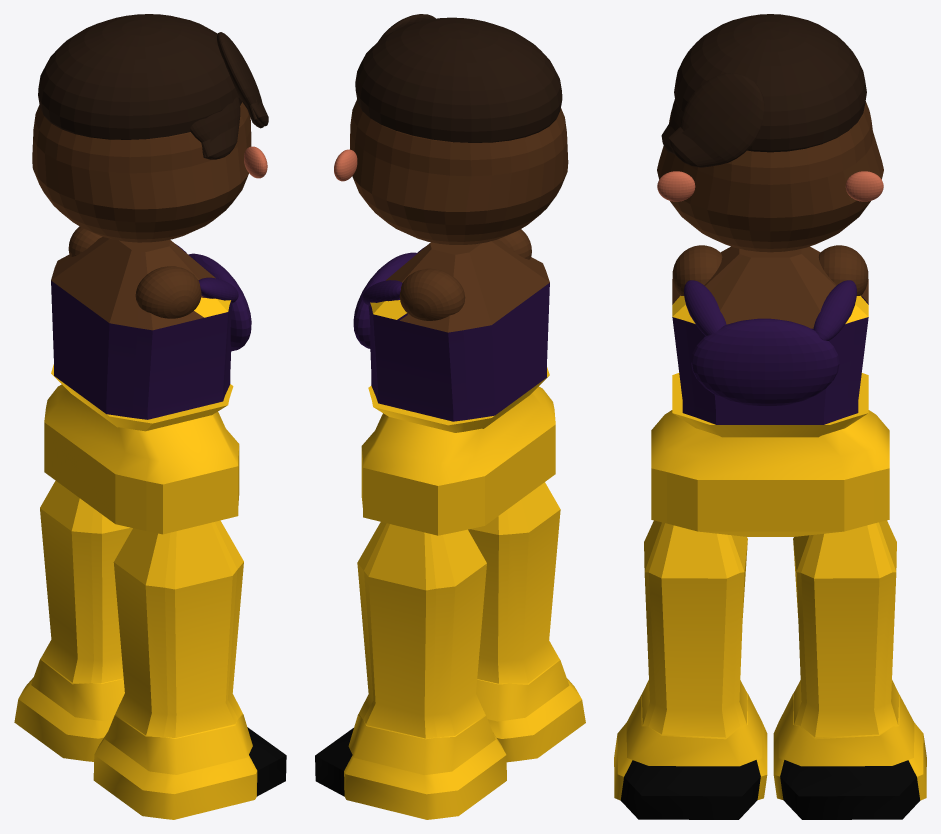
The model's file is test astfdtudcccgdbsgfgewasbhjkvhk.fbx.
3 renders of one model, left to right at view 1: azimuth 30°, elevation 25°; view 2: azimuth 150°, elevation 25°; view 3: azimuth 270°, elevation 25°, orthographic. The views are drawn at different scales.
Parts seen in each view (by area): view 1: Cube.003, Sphere.010, Cube.002, Sphere, Cube.001, Cube.006, Sphere.005, Sphere.011, Sphere.008, Cube.005, Sphere.009, Cube.004 (+3 smaller); view 2: Cube.003, Sphere.010, Sphere, Cube.002, Cube.001, Cube.006, Sphere.005, Cube.005, Cube.004, Sphere.009, Sphere.007, Sphere.004 (+1 smaller); view 3: Cube.003, Cube.002, Sphere, Sphere.010, Cube.004, Sphere.009, Cube.006, Cube.001, Sphere.008, Sphere.005, Sphere.007, Cube.005 (+2 smaller).
Part boxes in pixels (x1,y1,x2,y2): Cube.003: (14,480,257,819); Sphere.010: (38,14,241,139); Cube.002: (44,384,239,534); Sphere: (32,102,251,242); Cube.001: (51,280,232,419); Cube.006: (51,237,225,330); Sphere.005: (68,226,201,318); Sphere.011: (190,97,240,159); Sphere.008: (217,32,268,128); Cube.005: (51,364,233,431); Sphere.009: (188,253,251,351); Cube.004: (247,727,286,796); Cube.003: (344,482,585,819); Sphere.010: (355,17,562,142); Sphere: (350,99,568,244); Cube.002: (361,386,555,535); Cube.001: (368,283,549,421); Cube.006: (386,239,549,332); Sphere.005: (399,229,531,320); Cube.005: (368,367,549,432); Cube.004: (315,728,353,796); Sphere.009: (353,252,417,348); Sphere.007: (362,246,425,305); Sphere.004: (334,149,357,181); Cube.003: (614,520,926,800); Cube.002: (651,410,889,536); Sphere: (657,101,883,252); Sphere.010: (674,14,866,152); Cube.004: (620,760,920,819); Sphere.009: (691,318,839,406); Cube.006: (672,246,868,328); Cube.001: (672,296,868,424); Sphere.008: (668,73,764,167); Sphere.005: (672,245,868,295); Sphere.007: (684,280,856,340); Cube.005: (672,373,868,437).
Bounding box in the file's own units: 200 × 715 × 270.
